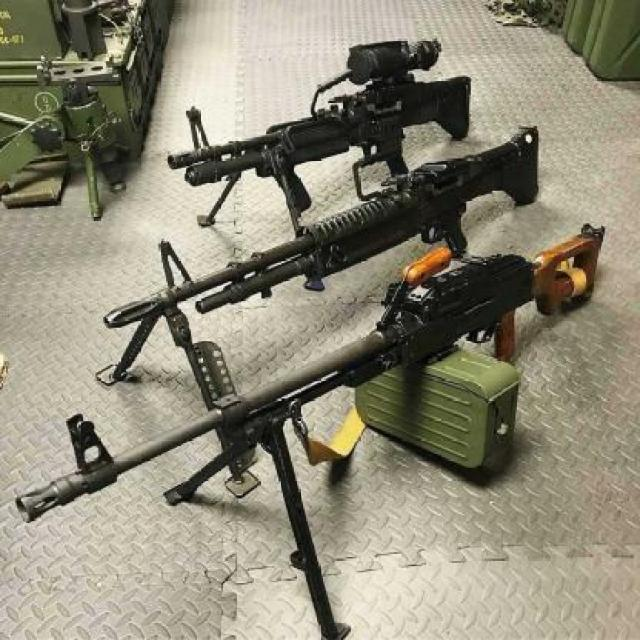weapon: (0, 204, 611, 633), (102, 100, 551, 408), (158, 39, 491, 242)
